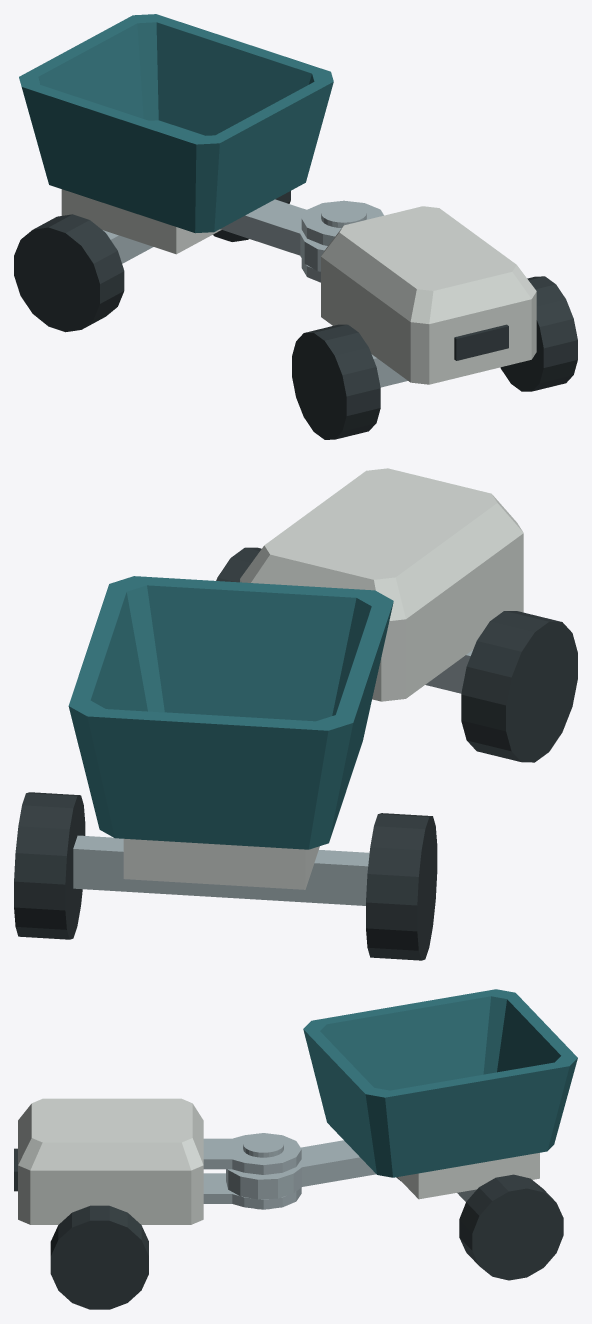
3 views of the same model, one above another, from view 1: azimuth 30°, elevation 25°; view 2: azimuth 150°, elevation 25°; view 3: azimuth 270°, elevation 25° (orthographic). The views are drawn at different scales.
Parts seen in each view (by area): view 1: WholeOpenTaperedBin, WholeClosedFrontElectronicsBody, LeftWholeRearWheel, LeftWholeFrontWheel, RightWholeFrontWheel, WholeRearUndersideFrame, WholeRearPiercedTongue, WholeOpaqueFrontPanel, WholeUpperPiercedClevisPlate, WholeVerticalRetainingPin, WholeRearAxle; view 2: WholeOpenTaperedBin, WholeClosedFrontElectronicsBody, LeftWholeFrontWheel, LeftWholeRearWheel, RightWholeRearWheel, WholeRearAxle, WholeRearUndersideFrame, WholeFrontAxle, RightWholeFrontWheel; view 3: WholeOpenTaperedBin, WholeClosedFrontElectronicsBody, RightWholeFrontWheel, RightWholeRearWheel, WholeRearPiercedTongue, WholeRearUndersideFrame, WholeUpperPiercedClevisPlate, WholeLowerPiercedClevisPlate, WholeVerticalRetainingPin.
Part boxes in pixels (x1,y1,x2,y2): WholeOpenTaperedBin: [19, 14, 333, 233]; WholeClosedFrontElectronicsBody: [321, 206, 536, 384]; LeftWholeRearWheel: [14, 214, 124, 332]; LeftWholeFrontWheel: [292, 324, 380, 439]; RightWholeFrontWheel: [500, 276, 577, 391]; WholeRearUndersideFrame: [61, 189, 221, 254]; WholeRearPiercedTongue: [220, 199, 327, 271]; WholeOpaqueFrontPanel: [454, 324, 508, 360]; WholeUpperPiercedClevisPlate: [301, 200, 383, 245]; WholeVerticalRetainingPin: [321, 203, 366, 227]; WholeRearAxle: [103, 230, 152, 263]; WholeOpenTaperedBin: [68, 576, 393, 849]; WholeClosedFrontElectronicsBody: [240, 468, 523, 701]; LeftWholeFrontWheel: [461, 611, 577, 762]; LeftWholeRearWheel: [366, 813, 437, 960]; RightWholeRearWheel: [14, 792, 85, 939]; WholeRearAxle: [73, 835, 369, 905]; WholeRearUndersideFrame: [123, 838, 319, 889]; WholeFrontAxle: [425, 650, 472, 693]; RightWholeFrontWheel: [216, 547, 261, 582]; WholeOpenTaperedBin: [303, 989, 577, 1177]; WholeClosedFrontElectronicsBody: [18, 1098, 203, 1224]; RightWholeFrontWheel: [50, 1205, 148, 1309]; RightWholeRearWheel: [459, 1174, 563, 1280]; WholeRearPiercedTongue: [226, 1140, 375, 1199]; WholeRearUndersideFrame: [397, 1153, 539, 1199]; WholeUpperPiercedClevisPlate: [203, 1133, 301, 1174]; WholeLowerPiercedClevisPlate: [203, 1173, 301, 1209]; WholeVerticalRetainingPin: [243, 1135, 283, 1209].
Size of the model in its own units: 1.28 by 0.75 by 2.07.
